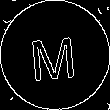M_N: (30, 28, 80, 82)
